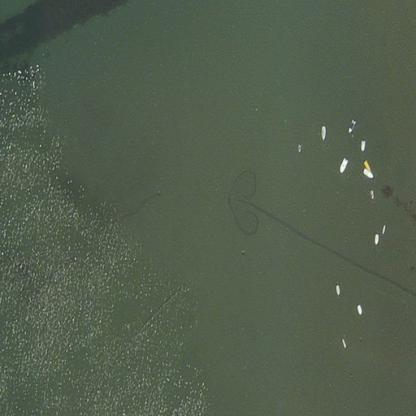ship: (345, 116, 357, 134), (332, 157, 342, 172), (332, 329, 342, 342), (362, 163, 372, 175), (362, 158, 370, 170), (354, 304, 362, 315), (320, 120, 324, 134), (382, 220, 386, 233), (359, 138, 363, 150), (372, 232, 376, 244), (292, 142, 294, 154), (335, 281, 337, 293), (371, 188, 372, 198)
